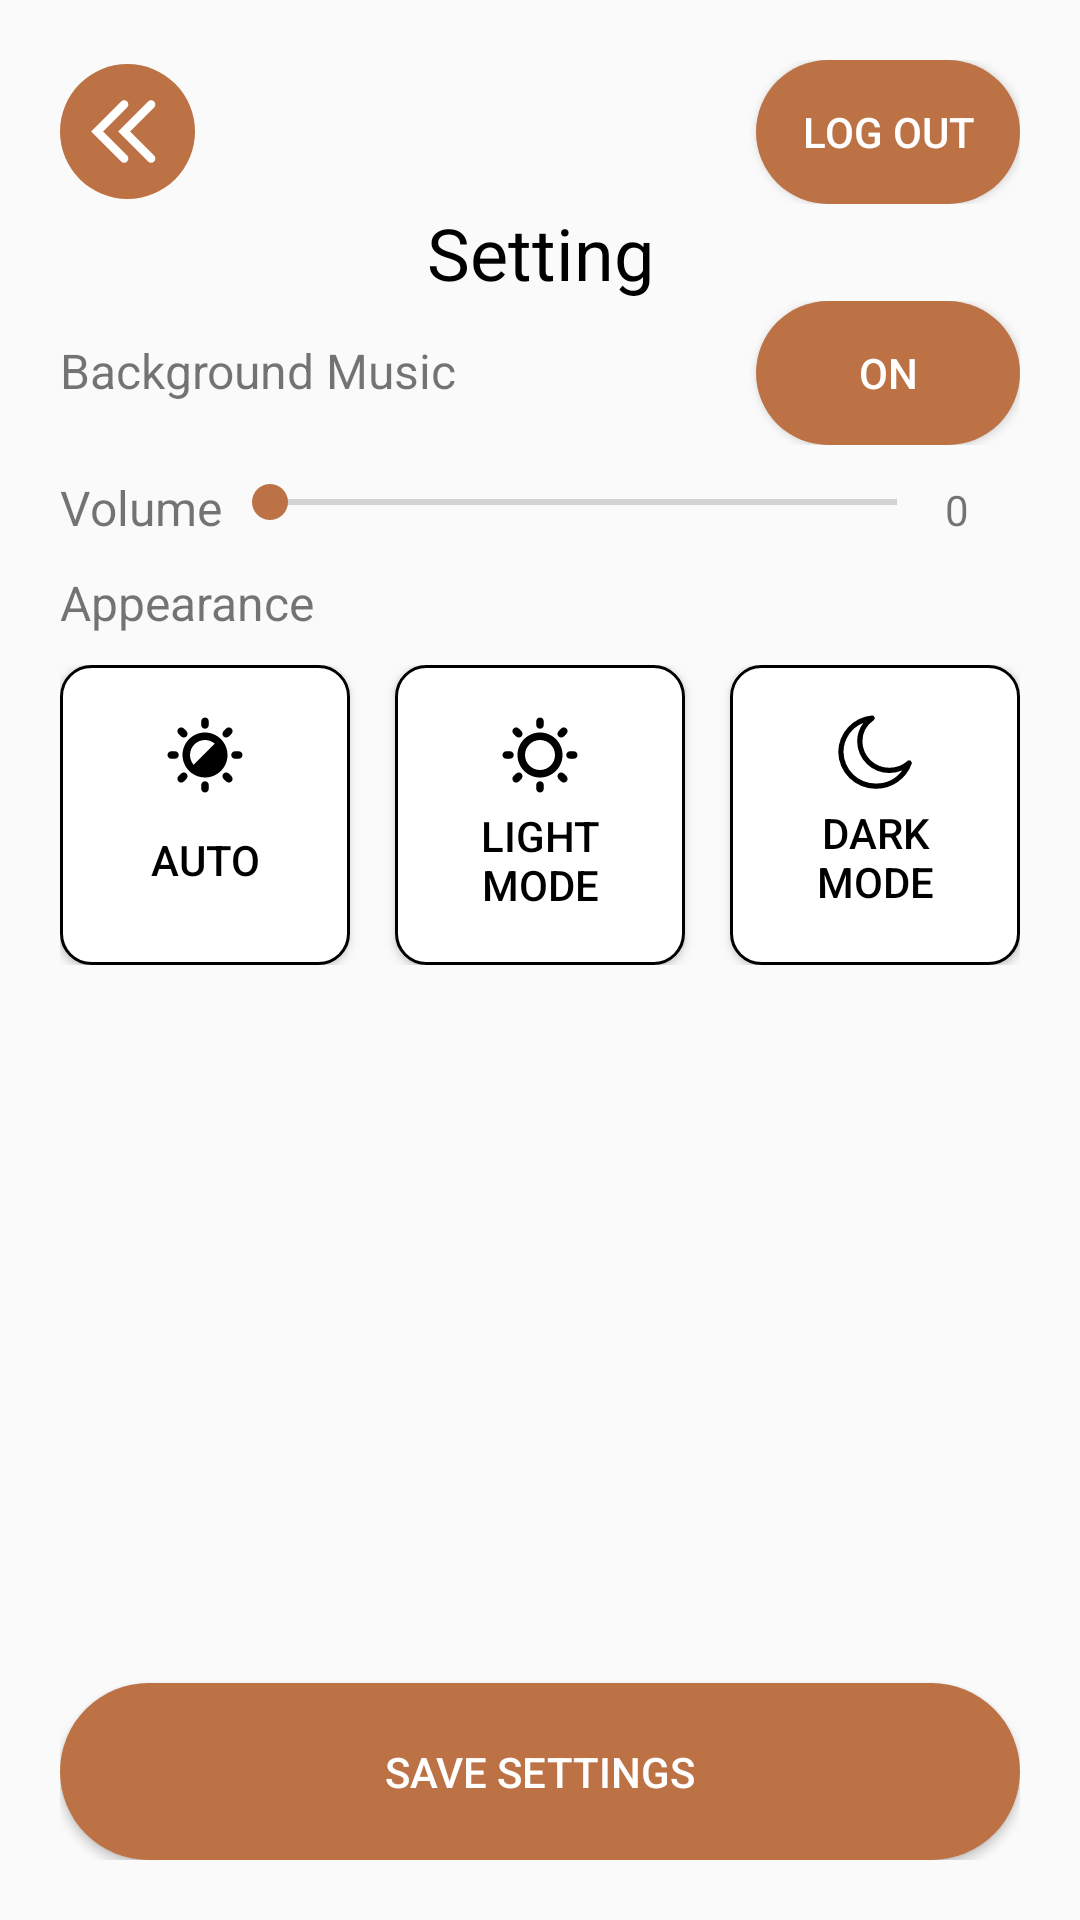

Screen size 1080 × 1920. Icon name, then its center in pixels as (x=x, y=y):
back button: (x=127, y=131)
